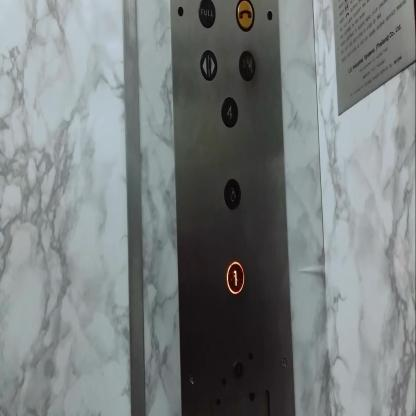1: (226, 261, 244, 295)
3: (223, 177, 242, 210)
4: (220, 95, 239, 129)
blur: (238, 49, 256, 80)
call: (235, 0, 255, 32)
open: (200, 50, 217, 82)
text_FULL: (198, 0, 216, 29)
